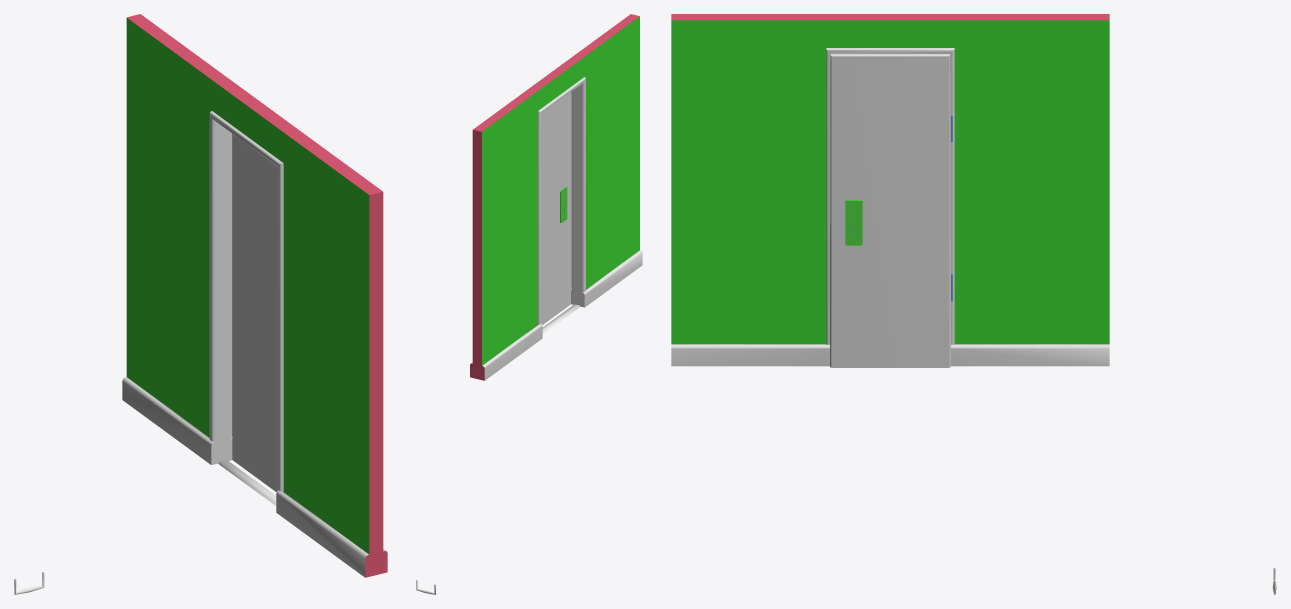
The model's file is wall_door_middle.fbx.
3 renders of one model, left to right at view 1: azimuth 30°, elevation 25°; view 2: azimuth 150°, elevation 25°; view 3: azimuth 270°, elevation 25°, orthographic. The views are drawn at different scales.
Visible parts, largest first — view 1: wall_door_middle, door; view 2: wall_door_middle, door; view 3: wall_door_middle, door.
Boxes of the visible parts, x1,y1,x2,y2 form: wall_door_middle: (122, 14, 387, 577); door: (232, 134, 278, 491); wall_door_middle: (470, 14, 642, 380); door: (541, 92, 570, 324); wall_door_middle: (671, 14, 1109, 366); door: (830, 53, 952, 367).
Size of the model in its own units: 0.3175 by 4.36 by 4.14.
